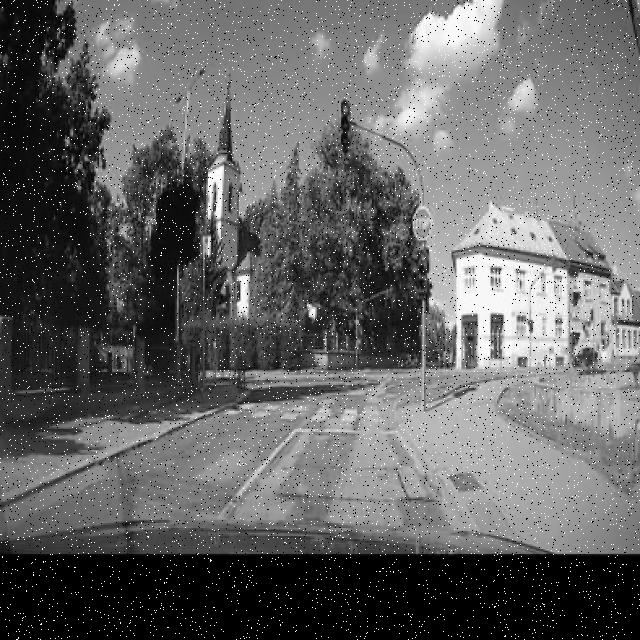clear-road: (168, 377, 433, 502)
